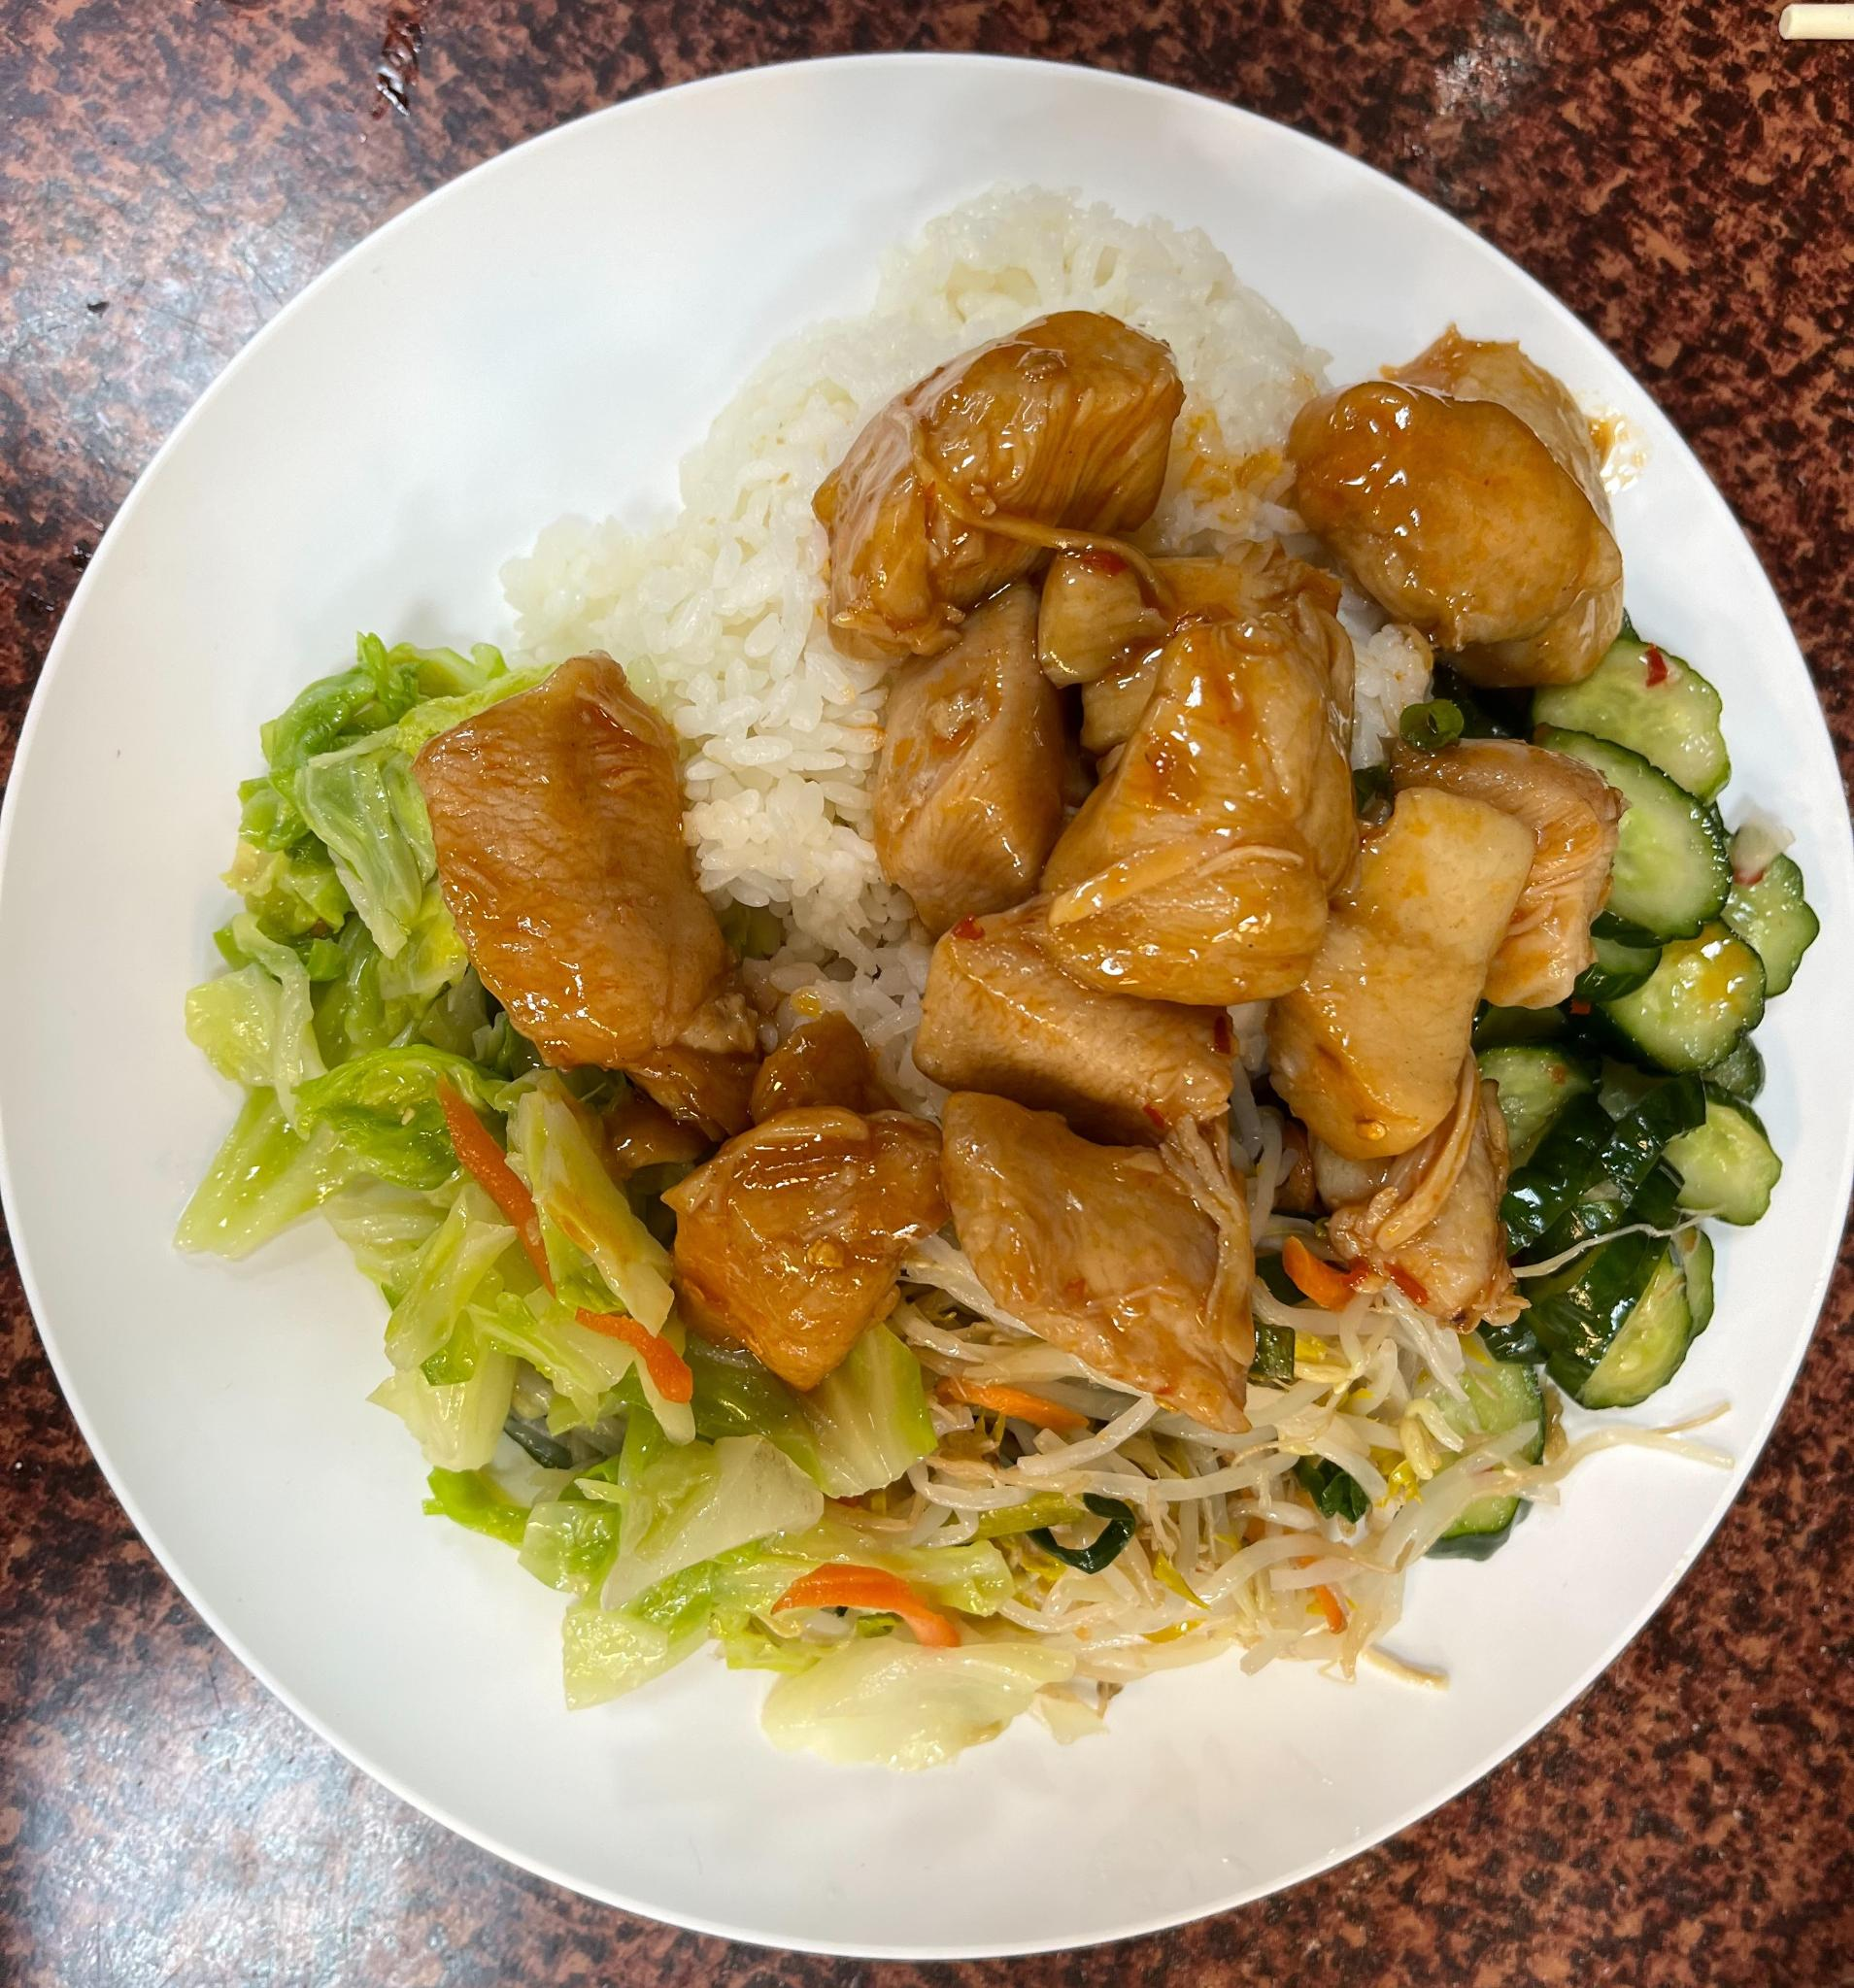big fried chicken leg: (19, 31, 1854, 1974)
big herbal chicken leg: (572, 167, 1331, 946)
braised fish fillet: (192, 639, 890, 1554), (1476, 620, 1798, 1387), (1000, 1270, 1490, 1694)
braised pork: (401, 340, 1608, 1411)
